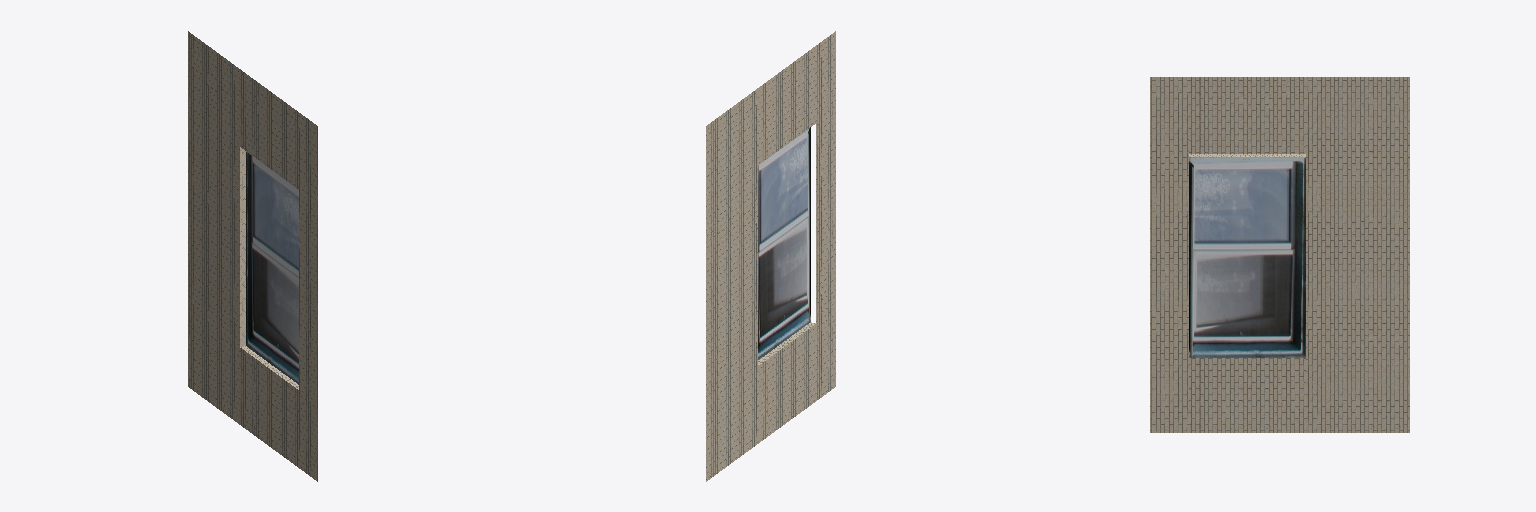
The picture shows the model from 3 angles: view 1: azimuth 30°, elevation 25°; view 2: azimuth 150°, elevation 25°; view 3: azimuth 270°, elevation 25°; orthographic projection.
Parts seen in each view (by area): view 1: Plane001, Plane002; view 2: Plane001, Plane002; view 3: Plane001, Plane002.
Boxes of the visible parts, x1,y1,x2,y2 form: Plane001: [188, 31, 317, 481]; Plane002: [246, 152, 298, 384]; Plane001: [706, 31, 835, 481]; Plane002: [758, 127, 810, 359]; Plane001: [1150, 77, 1409, 432]; Plane002: [1189, 157, 1305, 357].
Bounding box in the file's own units: 5 × 302 × 200.
Materials: 2 (2 with a texture image).